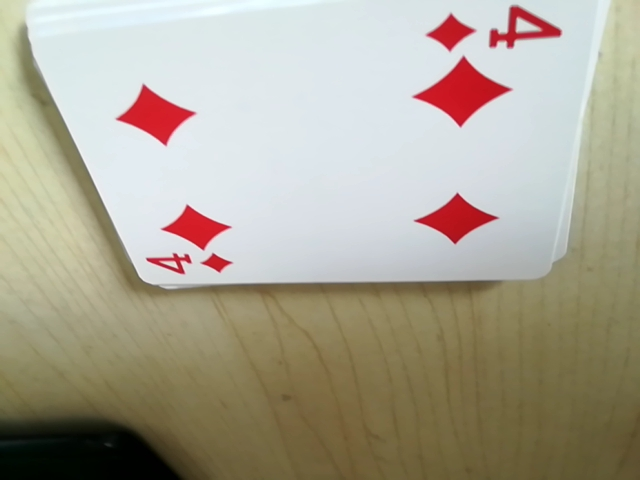fk 4: (420, 0, 570, 57), (137, 246, 241, 287)
